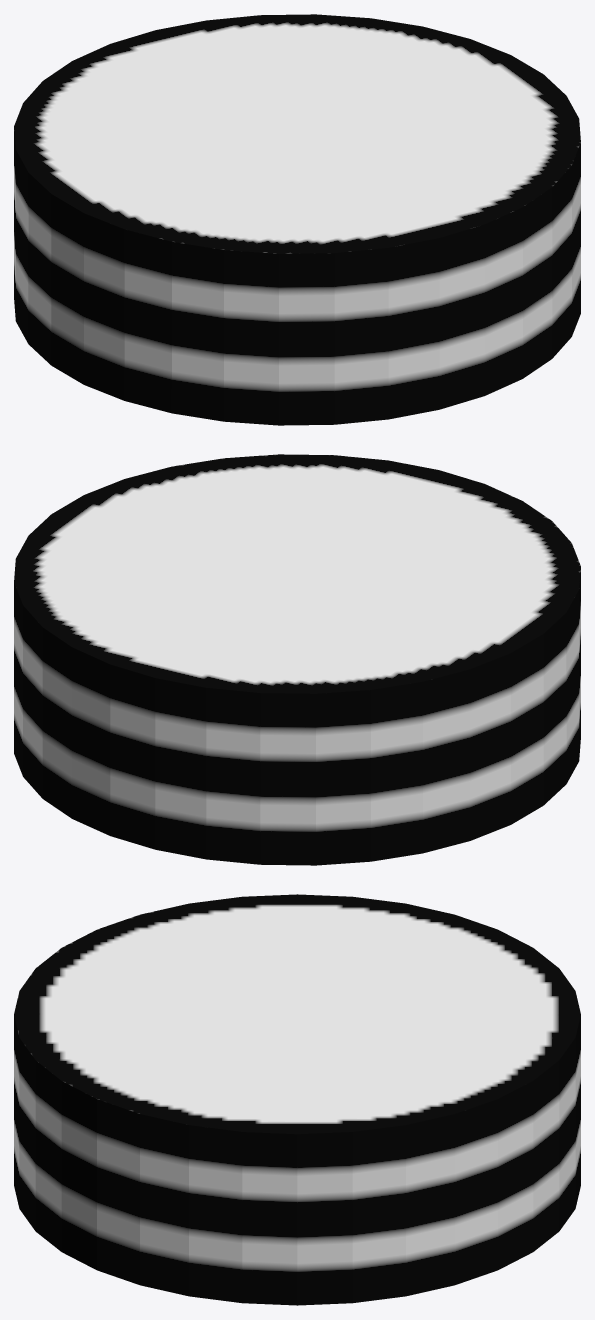
Rendered from wheel.gltf.
3 renders of one model, top to bottom at view 1: azimuth 30°, elevation 25°; view 2: azimuth 150°, elevation 25°; view 3: azimuth 270°, elevation 25°, orthographic.
Parts seen in each view (by area): view 1: Cylinder; view 2: Cylinder; view 3: Cylinder.
Part boxes in pixels (left/top/right/bottom): Cylinder: left=14, top=14, right=580, bottom=425; Cylinder: left=14, top=454, right=580, bottom=865; Cylinder: left=14, top=894, right=580, bottom=1305.
Size of the model in its own units: 0.06 by 0.02 by 0.06.
